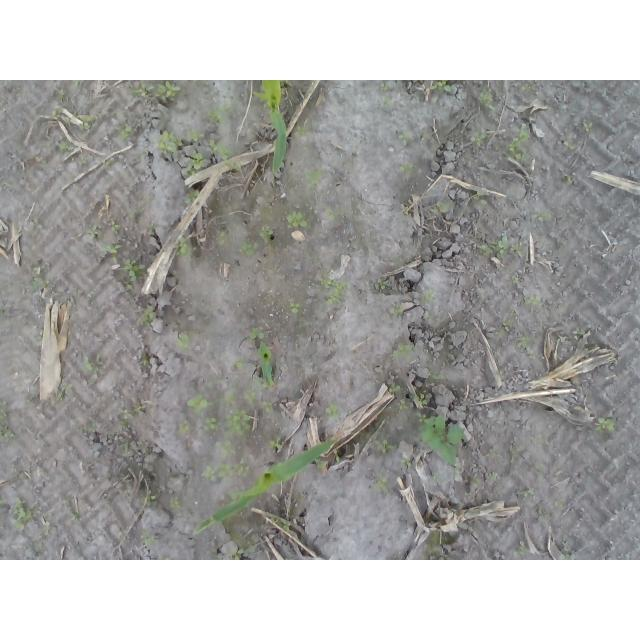Maize: (191, 439, 330, 539), (246, 80, 289, 176), (256, 341, 277, 384)
Weeds: (416, 410, 464, 466), (224, 392, 256, 435), (128, 80, 180, 102), (201, 457, 250, 480), (207, 143, 242, 172), (320, 273, 349, 305), (502, 128, 530, 161), (122, 257, 147, 289), (158, 128, 182, 157), (0, 401, 16, 442), (15, 496, 33, 531), (480, 237, 508, 259), (285, 207, 312, 229), (207, 103, 233, 125), (80, 353, 103, 376), (30, 264, 49, 289), (303, 168, 322, 193), (232, 544, 257, 561), (188, 394, 208, 415), (186, 154, 205, 176), (380, 82, 397, 106), (391, 342, 415, 359), (211, 440, 235, 457), (375, 471, 390, 496), (116, 123, 135, 142), (595, 416, 616, 433), (477, 93, 495, 112), (430, 80, 454, 94), (373, 440, 395, 455), (56, 384, 73, 403), (174, 421, 191, 440), (79, 112, 97, 129), (255, 224, 274, 240), (79, 418, 98, 434), (176, 235, 189, 258), (410, 390, 428, 406), (239, 240, 257, 256), (144, 305, 157, 327), (271, 515, 290, 530), (323, 404, 339, 421), (202, 415, 218, 432), (229, 356, 248, 370), (429, 201, 449, 214), (186, 129, 206, 142), (389, 303, 403, 321), (127, 403, 145, 417), (119, 408, 129, 432), (57, 143, 74, 157), (103, 244, 122, 256), (470, 131, 486, 145), (176, 334, 190, 350), (400, 162, 417, 175), (398, 130, 411, 147), (500, 319, 512, 337), (325, 207, 337, 225), (534, 210, 553, 221), (517, 335, 530, 351), (562, 135, 575, 151), (473, 192, 485, 209), (259, 399, 273, 413), (186, 190, 199, 205), (374, 278, 390, 290), (524, 295, 541, 306), (430, 372, 447, 383), (250, 326, 264, 339), (167, 496, 181, 509), (128, 207, 145, 217), (512, 545, 529, 555), (399, 456, 413, 468), (86, 225, 98, 239), (510, 244, 522, 257), (107, 220, 119, 232), (560, 552, 577, 560), (140, 353, 149, 368), (288, 303, 300, 314), (315, 461, 326, 472), (147, 495, 158, 506), (269, 438, 280, 449), (423, 291, 433, 303), (388, 383, 400, 393), (583, 121, 593, 133), (75, 155, 87, 165), (214, 231, 226, 241), (485, 447, 497, 457), (400, 398, 409, 411), (144, 532, 153, 545), (295, 127, 305, 138), (431, 471, 441, 482), (486, 472, 498, 481), (51, 110, 61, 120), (563, 175, 573, 185), (452, 467, 459, 481), (520, 84, 530, 93), (56, 89, 64, 100), (471, 478, 481, 486), (102, 160, 112, 167), (72, 80, 80, 88), (335, 455, 342, 464), (158, 556, 170, 561), (512, 276, 518, 284), (147, 224, 155, 229)
